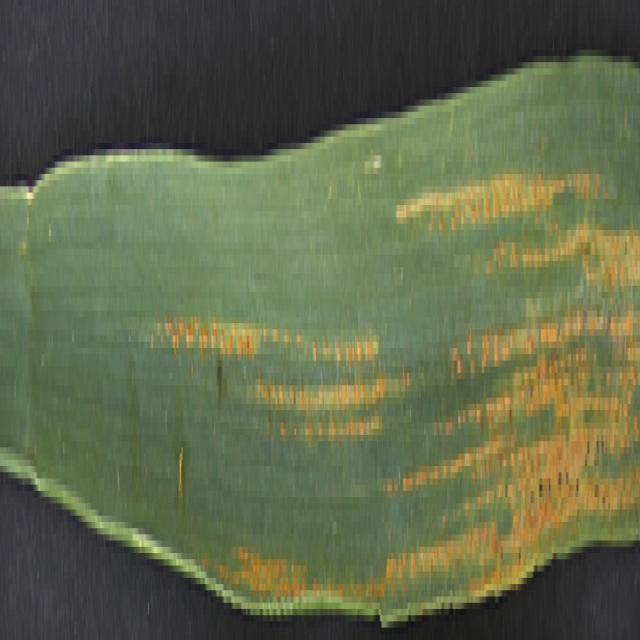leaf rust: (147, 112, 638, 603)
